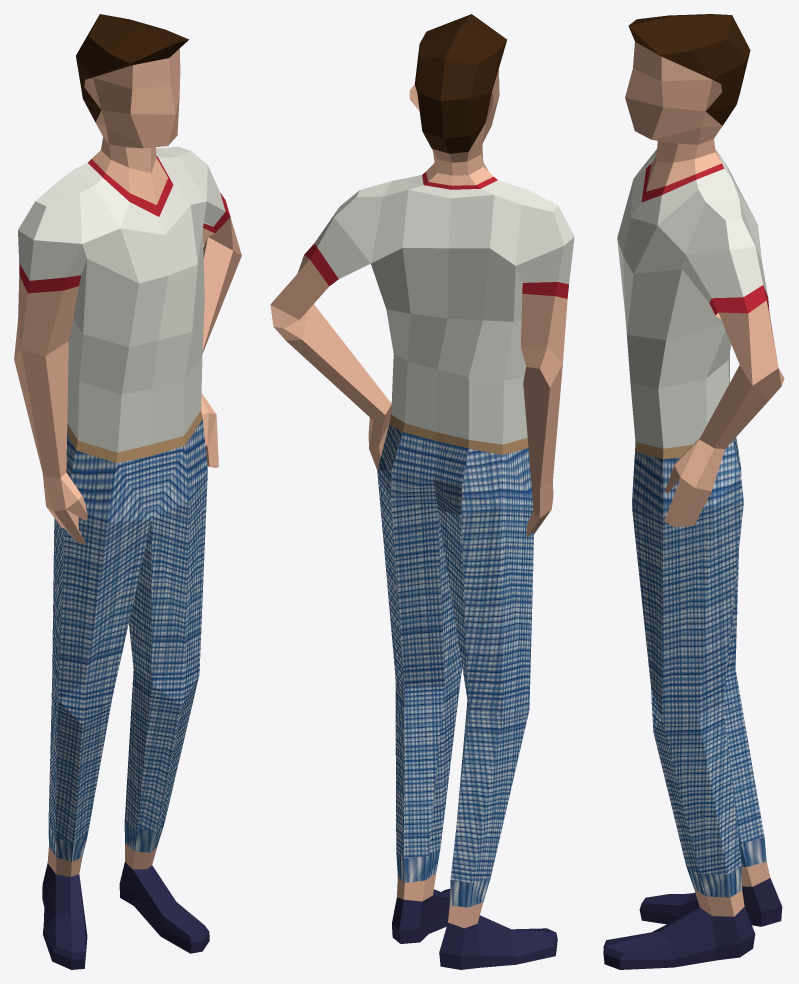
Rendered from SpringManB.008.glb.
The picture shows the model from 3 angles, left to right: view 1: azimuth 30°, elevation 25°; view 2: azimuth 150°, elevation 25°; view 3: azimuth 270°, elevation 25°; orthographic projection. The views are drawn at different scales.
Parts seen in each view (by area): view 1: SpringManB.009; view 2: SpringManB.009; view 3: SpringManB.009.
Part boxes in pixels (box(x1,y1,x2,y2)): SpringManB.009: box(14, 14, 241, 969); SpringManB.009: box(270, 14, 574, 969); SpringManB.009: box(603, 14, 784, 969).
Size of the model in its own units: 0.5145 by 1.77 by 0.3091.
1 material, 1 textured.
